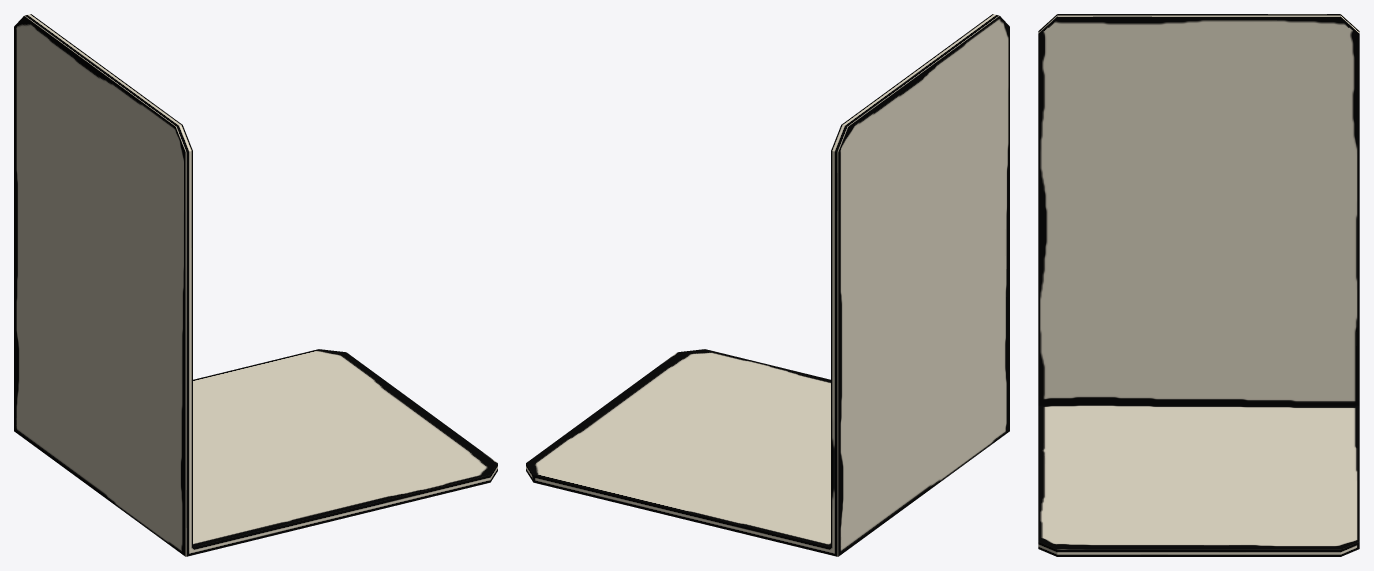
The model's file is bookends.FBX.
3 views of the same model, side by side, from view 1: azimuth 30°, elevation 25°; view 2: azimuth 150°, elevation 25°; view 3: azimuth 270°, elevation 25° (orthographic). The views are drawn at different scales.
Parts seen in each view (by area): view 1: Box001; view 2: Box001; view 3: Box001.
Boxes of the visible parts, left/top/right/bottom form: Box001: left=14, top=14, right=497, bottom=556; Box001: left=526, top=14, right=1009, bottom=556; Box001: left=1038, top=14, right=1359, bottom=556.
Bounding box in the file's own units: 5.12 × 6.42 × 4.72.
